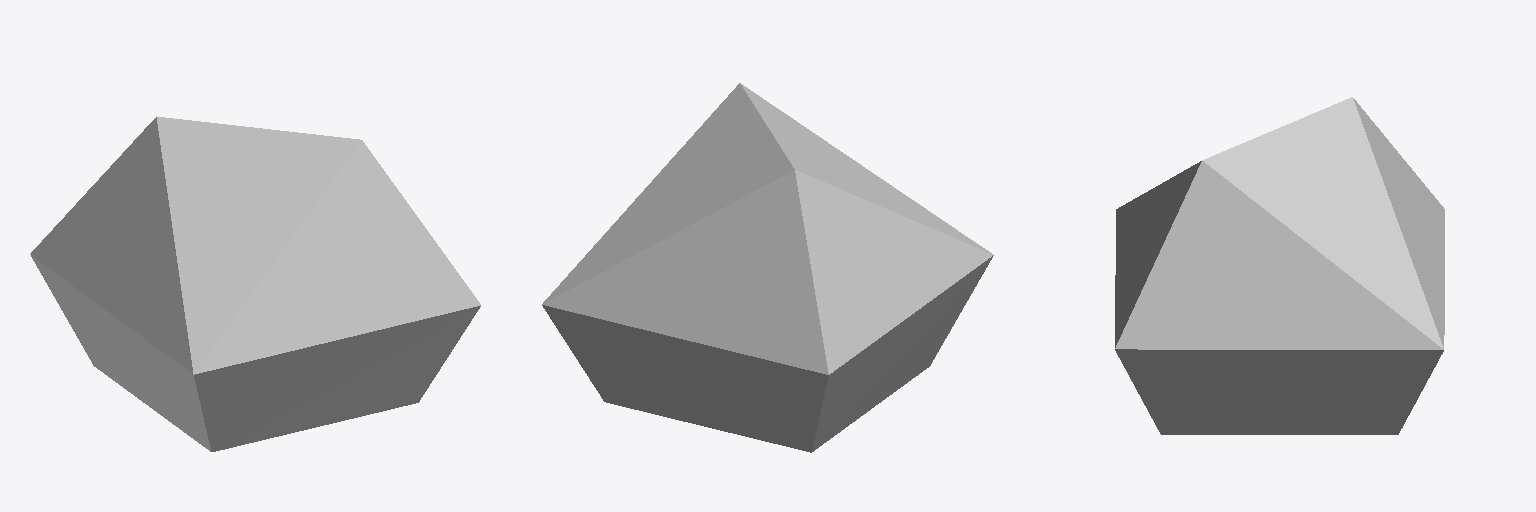
The model's file is eleven_sided_toy_alt_001.obj.
The picture shows the model from 3 angles: view 1: azimuth 30°, elevation 25°; view 2: azimuth 150°, elevation 25°; view 3: azimuth 270°, elevation 25°; orthographic projection.
Parts seen in each view (by area): view 1: 11_sided_object_alt; view 2: 11_sided_object_alt; view 3: 11_sided_object_alt.
Boxes of the visible parts, box(x1,y1,x2,y2) form: 11_sided_object_alt: box(30, 116, 480, 451); 11_sided_object_alt: box(542, 83, 993, 452); 11_sided_object_alt: box(1115, 97, 1444, 434).
Bounding box in the file's own units: 0.2737 × 0.2327 × 0.2717.